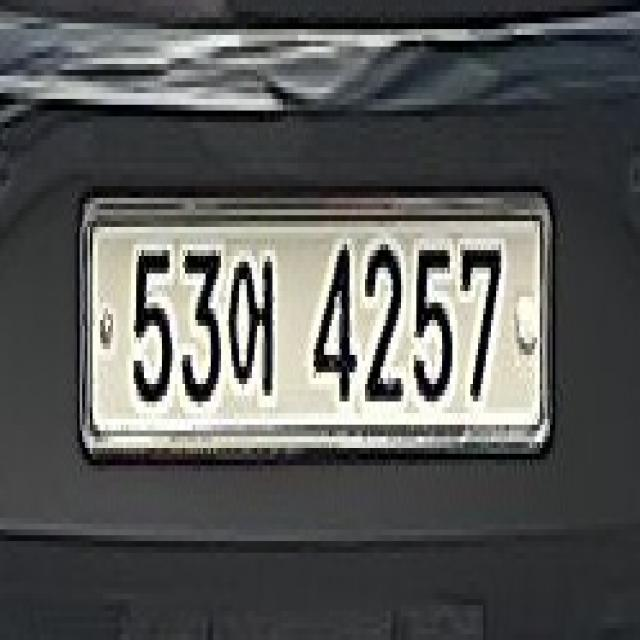2: (362, 221, 419, 436)
3: (175, 227, 229, 407)
4: (313, 227, 360, 430)
5: (414, 221, 460, 431), (123, 239, 175, 413)
7: (460, 227, 519, 407)
eo: (224, 221, 293, 419)
license_plate: (77, 174, 560, 460)
